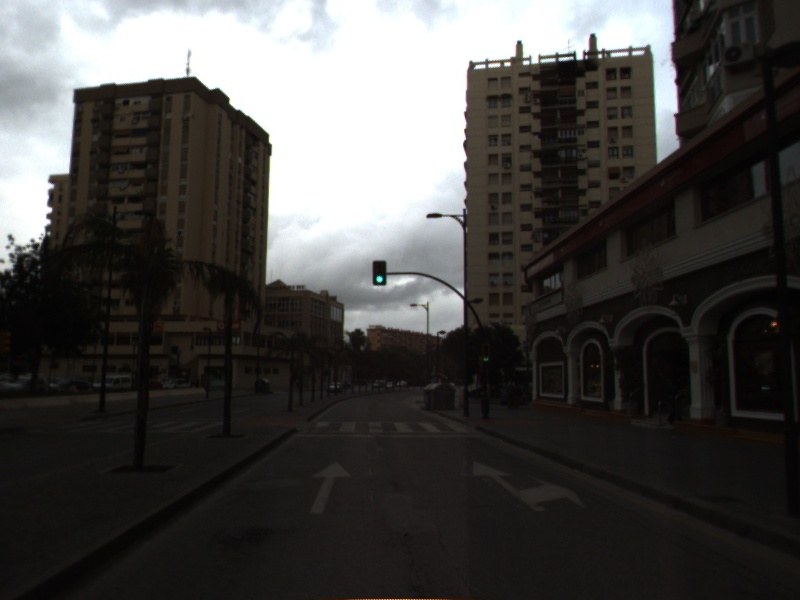STRAIGHT: (307, 459, 355, 516)
STRAIGHT_RIGHT: (470, 458, 588, 514)
